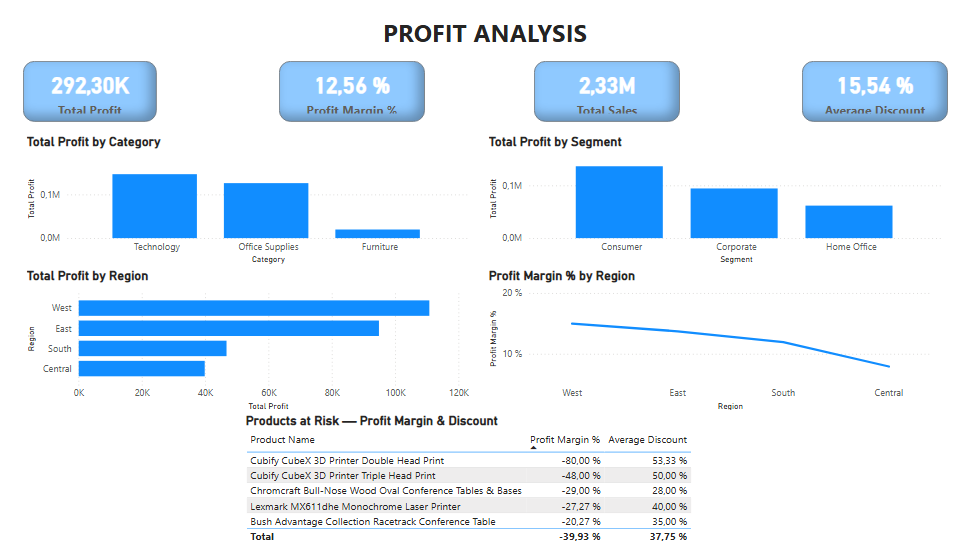

This screenshot's page, from the dashboard's own definition file:
{"tool":"powerbi","page":{"name":"Profit Analysis","canvas":[1280,720],"ordinal":3},"visuals":[{"type":"clusteredBarChart","title":"Total Profit by Region","fields":{"Category":["Fact_Orders.Region"],"Y":["Mesures.Total Profit"]},"box":[32,352,592,192],"z":0},{"type":"clusteredColumnChart","title":"Total Profit by Category","fields":{"Category":["Fact_Orders.Category"],"Y":["Mesures.Total Profit"]},"box":[32,176,592,176],"z":1000},{"type":"clusteredColumnChart","title":"Total Profit by Segment","fields":{"Y":["Mesures.Total Profit"],"Category":["Fact_Orders.Segment"]},"box":[640,176,608,176],"z":2000},{"type":"lineChart","title":"Profit Margin % by Region","fields":{"Y":["Mesures.Profit Margin %"],"Category":["Fact_Orders.Region"]},"box":[640,352,592,192],"z":3000},{"type":"card","fields":{"Values":["Mesures.Total Sales"]},"box":[704,80,192,80],"z":4000},{"type":"card","fields":{"Values":["Mesures.Total Profit"]},"box":[32,80,176,80],"z":5000},{"type":"card","fields":{"Values":["Mesures.Profit Margin %"]},"box":[368,80,192,80],"z":6000},{"type":"card","fields":{"Values":["Mesures.Average Discount"]},"box":[1056,80,192,80],"z":7000},{"type":"tableEx","title":"Products at Risk — Profit Margin & Discount","fields":{"Values":["Fact_Orders.Product Name","Mesures.Profit Margin %","Mesures.Average Discount"]},"box":[320,544,672,176],"z":8000},{"type":"textbox","box":[32,16,1216,64],"z":9000}]}

Visuals, with their boxes in screenshot pixels (x1, y1, x2, y2), scaled from the page's 1280x720 canvas onto the 970x546 screenshot:
"Total Profit by Region" clusteredBarChart: {"left": 24, "top": 267, "right": 473, "bottom": 413}
"Total Profit by Category" clusteredColumnChart: {"left": 24, "top": 133, "right": 473, "bottom": 267}
"Total Profit by Segment" clusteredColumnChart: {"left": 485, "top": 133, "right": 946, "bottom": 267}
"Profit Margin % by Region" lineChart: {"left": 485, "top": 267, "right": 934, "bottom": 413}
card - Mesures.Total Sales: {"left": 534, "top": 61, "right": 679, "bottom": 121}
card - Mesures.Total Profit: {"left": 24, "top": 61, "right": 158, "bottom": 121}
card - Mesures.Profit Margin %: {"left": 279, "top": 61, "right": 424, "bottom": 121}
card - Mesures.Average Discount: {"left": 800, "top": 61, "right": 946, "bottom": 121}
"Products at Risk — Profit Margin & Discount" tableEx: {"left": 242, "top": 413, "right": 752, "bottom": 545}
textbox: {"left": 24, "top": 12, "right": 946, "bottom": 61}
